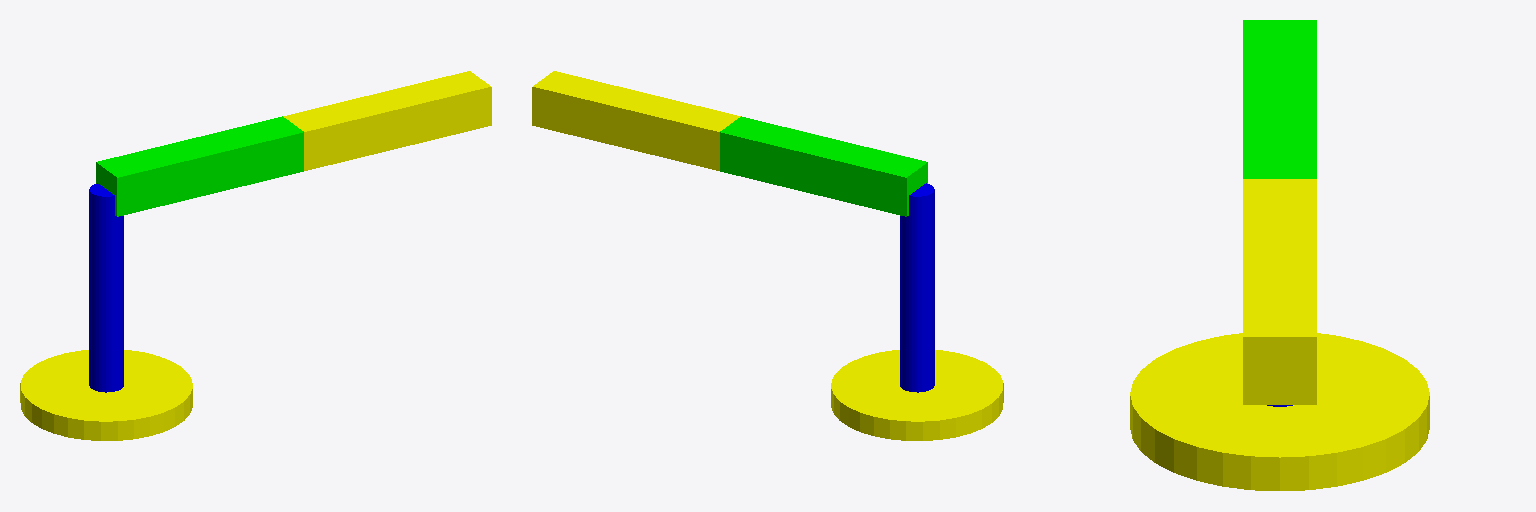
The robot description file, URDF, robot "simple_robot":
<?xml version="1.0"?>
<robot name="simple_robot">
	<link name="base_link">
		<visual>
			<geometry>
				<cylinder length="0.05" radius="0.2"/>
			</geometry>
			<!--origin of the reference frame of the visual element with respect to the reference frame of the link -->
			<!-- rpy - r is roll, p is pitch, y is yaw -->
			<!-- xzy - x, y, z are offsets -->
			<origin rpy = "0 0 0" xyz = "0 0 0" />
			<material name = "yellow">
				<color rgba = "1 1 0 1" />
			</material>
		</visual>
	</link>
	
	<joint name="joint_1" type="revolute">
		<parent link="base_link"/>
		<child link="first_link"/>
		<origin xyz="0 0 0.025"/>
		<axis xyz="0 0 1"/>
		<limit effort="300" velocity="2.0" lower="-2.2" upper="2.2" />
	</joint>
	<link name="first_link">
		<visual>
			<geometry>
				<cylinder length="0.5" radius="0.04"/>
			</geometry>
			<origin rpy="0 0 0" xyz="0 0 0.25"/>
			<material name="blue">
				<color rgba="0 0 1 1"/>
			</material>
		</visual>
	</link>
	
	<joint name="joint_2" type="revolute">
		<parent link="first_link"/>
		<child link="second_link"/>
		<origin xyz="0 0 0.5" rpy="1.57079633 0 0"/>
		<axis xyz="0 0 1"/>
		<limit effort="300" velocity="2.0" lower="-2.2" upper="2.2" />
	</joint>
	
	<link name="second_link">
		<visual>
			<geometry>
				<box size="0.5 0.1 0.1"/>
			</geometry>
			<origin rpy="0 0 0" xyz="0.25 0 0"/>
			<material name="green">
				<color rgba="0 1 0 1"/>
			</material>
		</visual>
	</link>
	
	<joint name="joint_3" type="revolute">
		<parent link="second_link"/>
		<child link="third_link"/>
		<origin xyz="0.5 0 0"/>
		<axis xyz="0 0 1"/>
		<limit effort="300" velocity="2.0" lower="-2.2" upper="2.2" />
	</joint>
	<link name="third_link">
		<visual>
			<geometry>
				<box size="0.5 0.1 0.1"/>
			</geometry>
			<origin rpy="0 0 0" xyz="0.25 0 0"/>
			<material name="yellow">
				<color rgba="1 1 0 1"/>
			</material>
		</visual>
	</link>
</robot>

--- What the picture shows (computed from the rendered views, not written in the file) ---
The picture shows the robot from 3 angles, left to right: view 1: azimuth 30°, elevation 25°; view 2: azimuth 150°, elevation 25°; view 3: azimuth 270°, elevation 25°; orthographic projection.
Model simple_robot with 4 links and 3 joints (3 revolute), rooted at base_link, posed all joints at 0.
Visible links, largest first — view 1: base_link, second_link, third_link, first_link; view 2: base_link, second_link, third_link, first_link; view 3: base_link, third_link, second_link.
Link boxes in pixels (box(x1,y1,x2,y2)): base_link: box(20, 350, 192, 440); second_link: box(96, 116, 303, 216); third_link: box(283, 71, 491, 170); first_link: box(89, 183, 123, 392); base_link: box(831, 350, 1003, 440); second_link: box(720, 116, 927, 216); third_link: box(532, 71, 740, 170); first_link: box(900, 183, 934, 392); base_link: box(1130, 333, 1429, 490); third_link: box(1243, 179, 1316, 404); second_link: box(1243, 20, 1316, 178).
Bounding box of the posed robot: 1.2 × 0.4 × 0.6 m (x, y, z).
Geometry: primitives only (box / cylinder / sphere), no mesh files.
